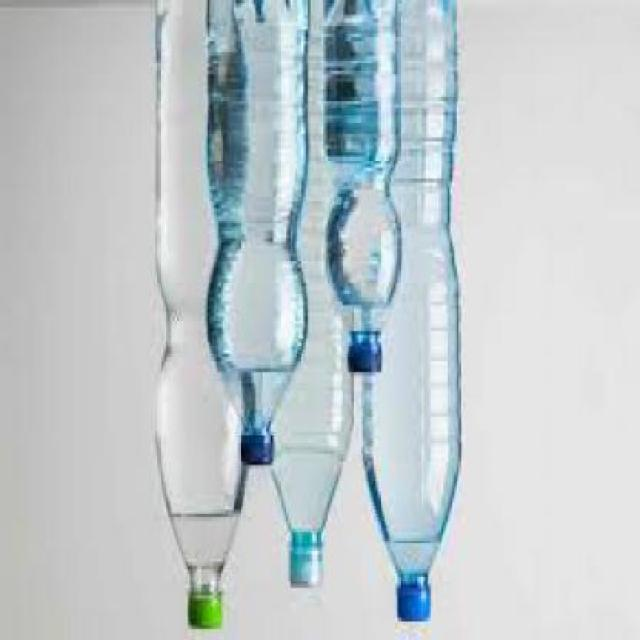PLASTIC: (362, 4, 464, 625), (157, 5, 249, 632), (273, 4, 356, 588), (208, 4, 312, 468), (326, 4, 406, 376), (290, 543, 324, 588), (190, 592, 224, 632), (399, 584, 433, 624), (350, 342, 384, 376), (242, 434, 276, 466)
